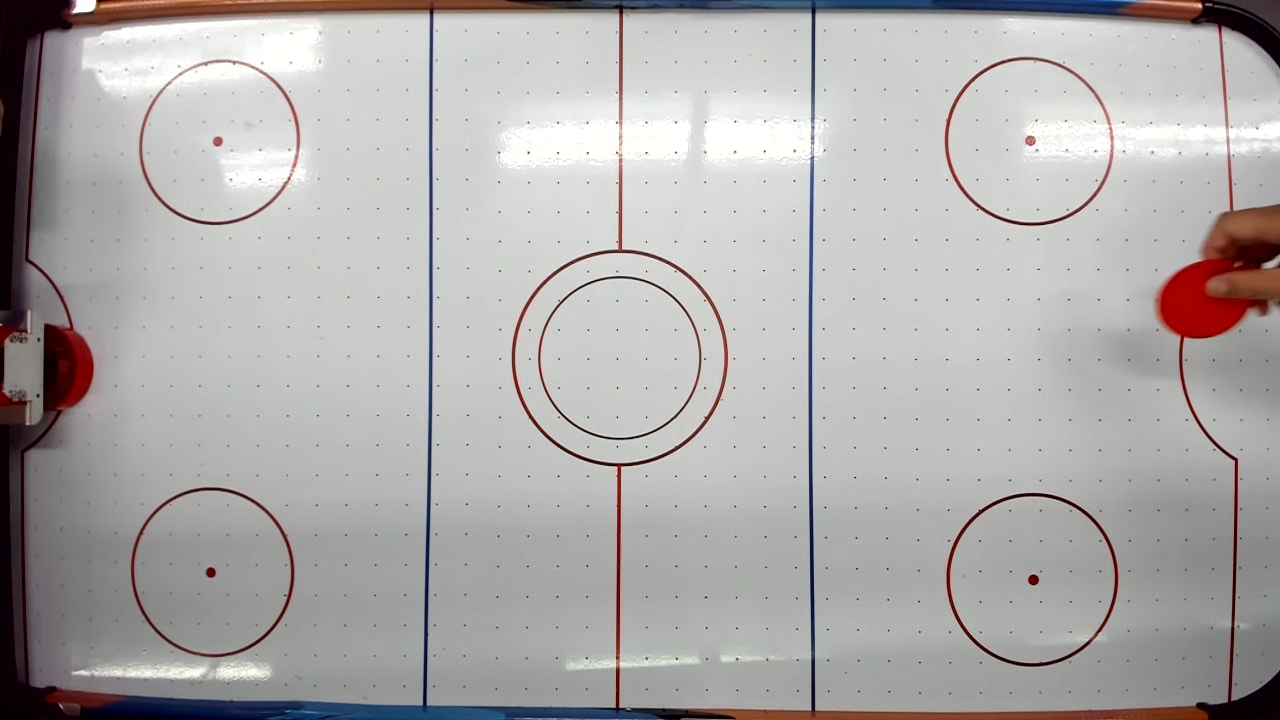ball: (1155, 252, 1251, 348)
